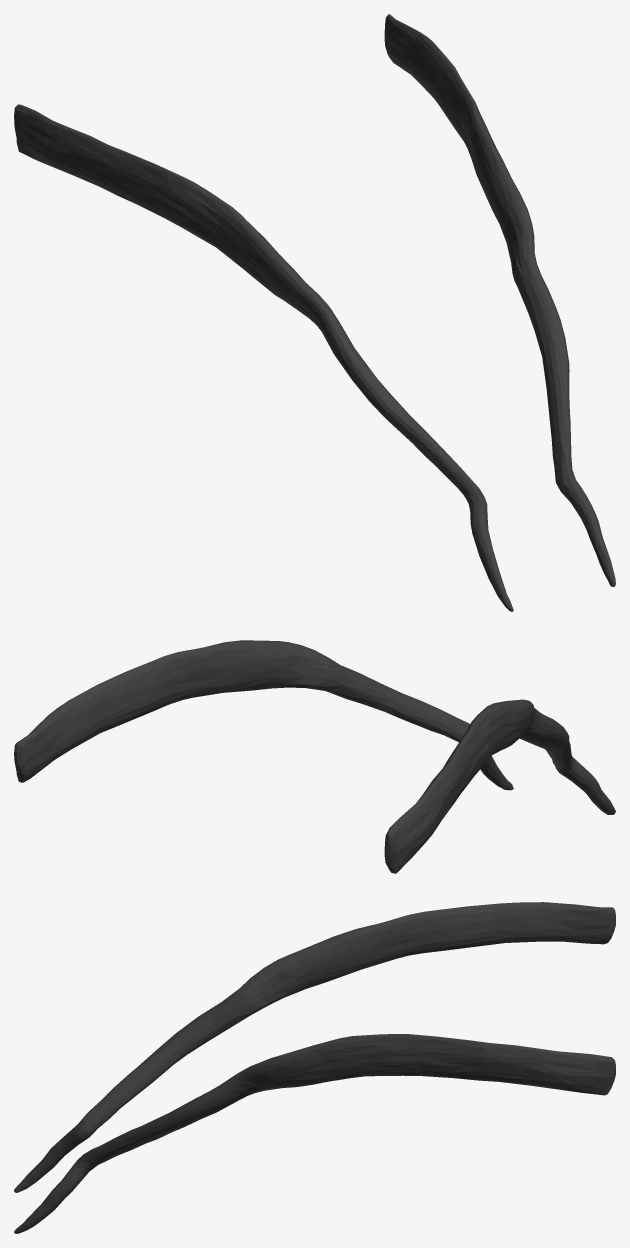
The model's file is m_scalenus_dorsalis.glb.
The picture shows the model from 3 angles, top to bottom: view 1: azimuth 30°, elevation 25°; view 2: azimuth 150°, elevation 25°; view 3: azimuth 270°, elevation 25°; orthographic projection. The views are drawn at different scales.
Parts seen in each view (by area): view 1: m_scalenus_dorsalis; view 2: m_scalenus_dorsalis; view 3: m_scalenus_dorsalis.
Part boxes in pixels (bbox=[...]): m_scalenus_dorsalis: bbox=[14, 14, 615, 611]; m_scalenus_dorsalis: bbox=[14, 640, 615, 873]; m_scalenus_dorsalis: bbox=[14, 902, 615, 1233].
Size of the model in its own units: 0.00496 by 0.00356 by 0.00809.
1 material, 1 textured.
